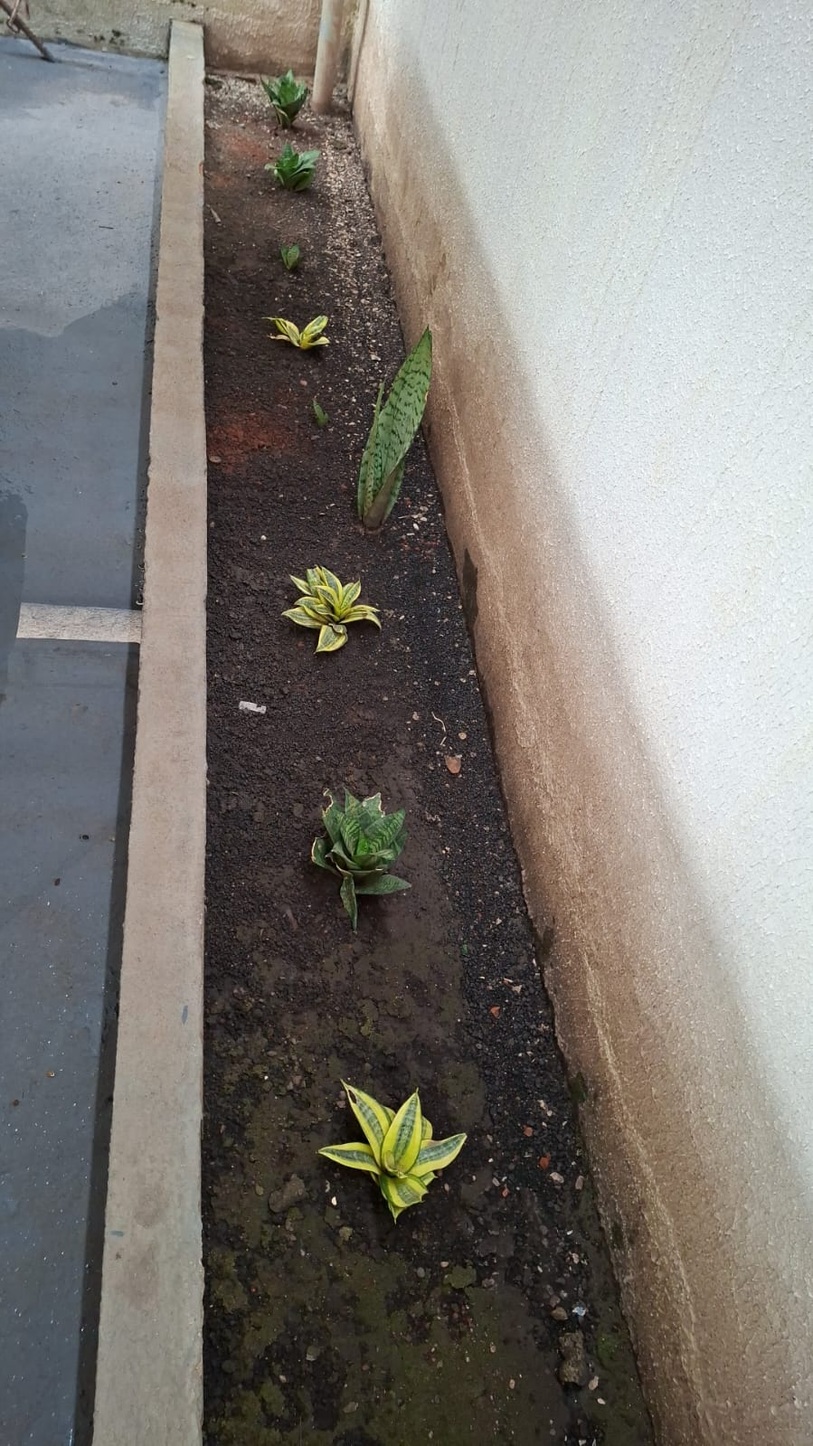Folha: (298, 565, 362, 618), (354, 398, 376, 514), (335, 575, 362, 615), (288, 600, 316, 627), (317, 625, 344, 650), (282, 244, 300, 266), (313, 404, 329, 426), (300, 149, 320, 166), (324, 1206, 339, 1223), (462, 943, 467, 951)
Germinacao: (277, 307, 438, 518), (315, 1083, 467, 1216), (318, 791, 410, 918), (286, 562, 375, 653), (265, 72, 326, 185), (270, 145, 325, 268), (461, 943, 468, 955)
